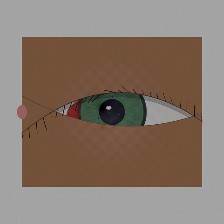hemorrhage_spot: (58, 91, 119, 139)
